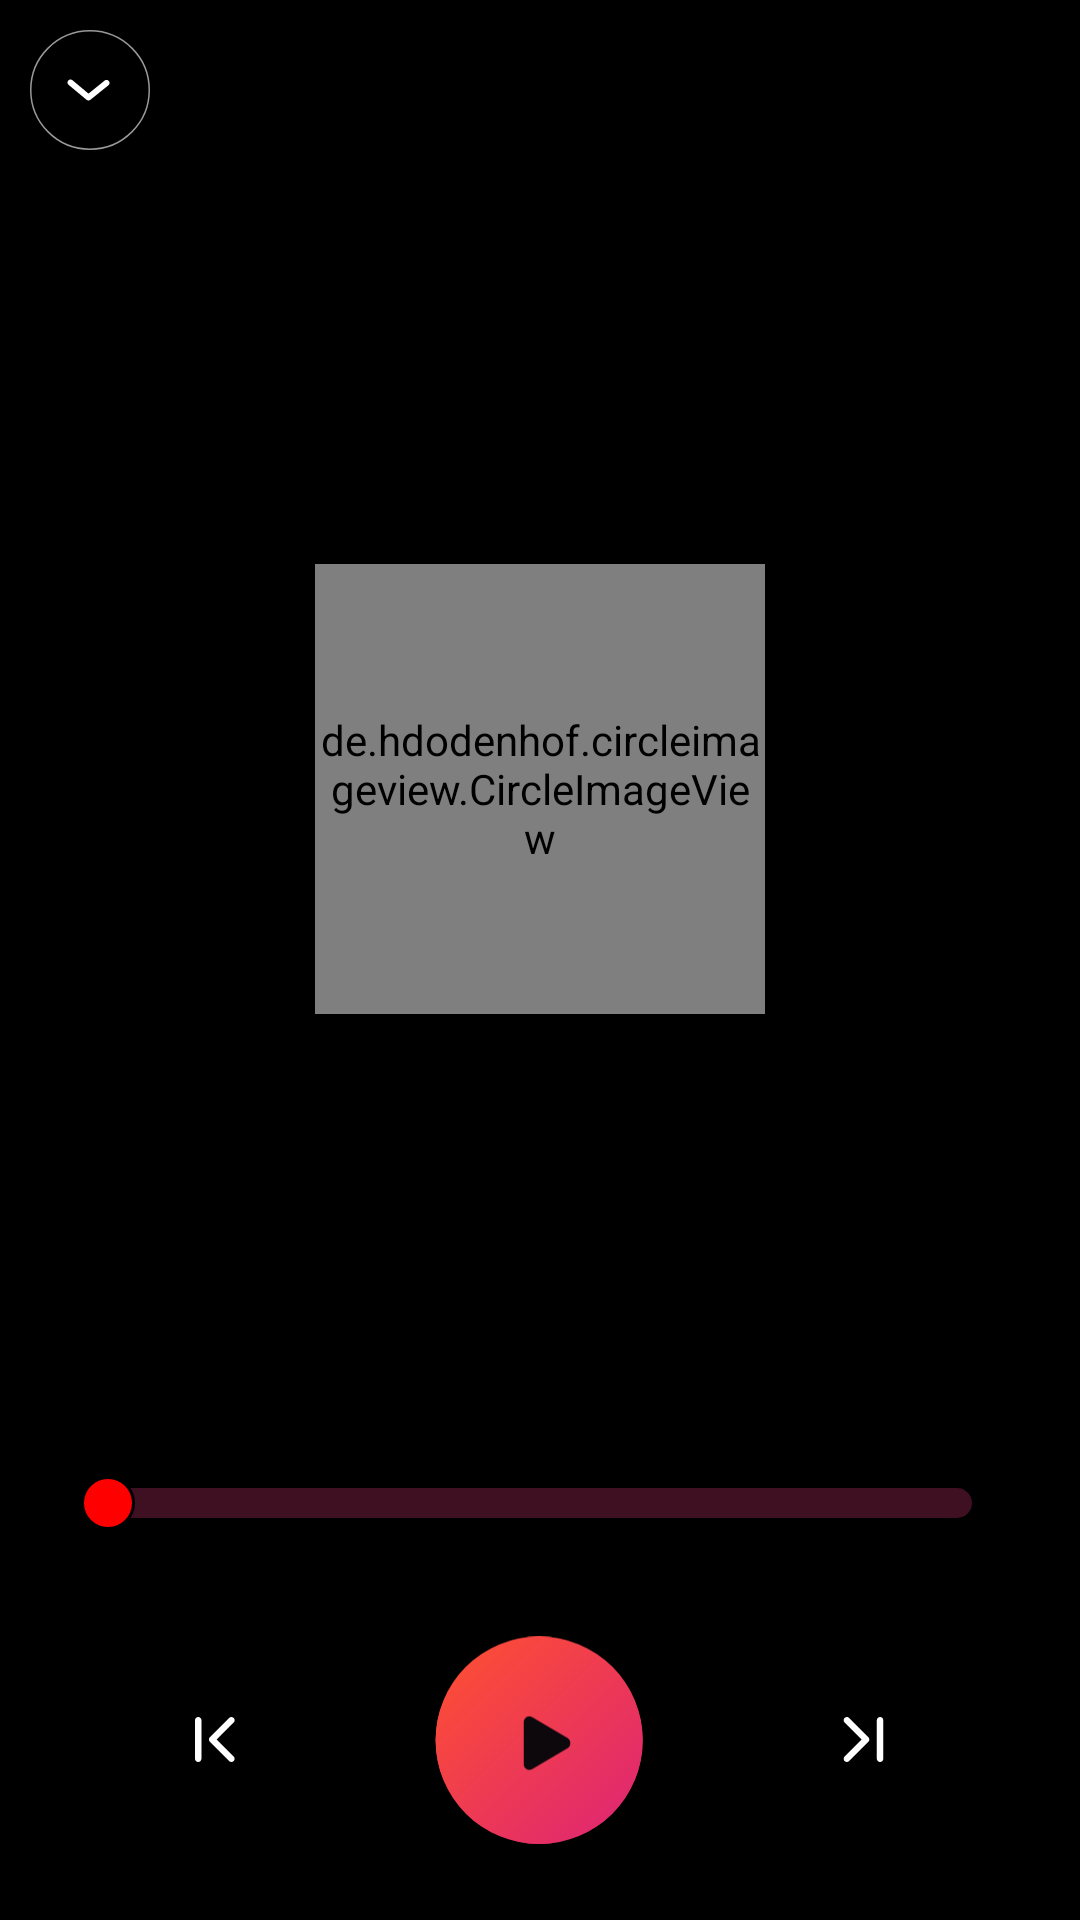

Where icons sit on this 1080x1920 app screen, as [x1, y1, x2, y2]:
drop down: [30, 30, 150, 150]
next play: [843, 1717, 884, 1762]
previous play: [195, 1717, 235, 1762]
